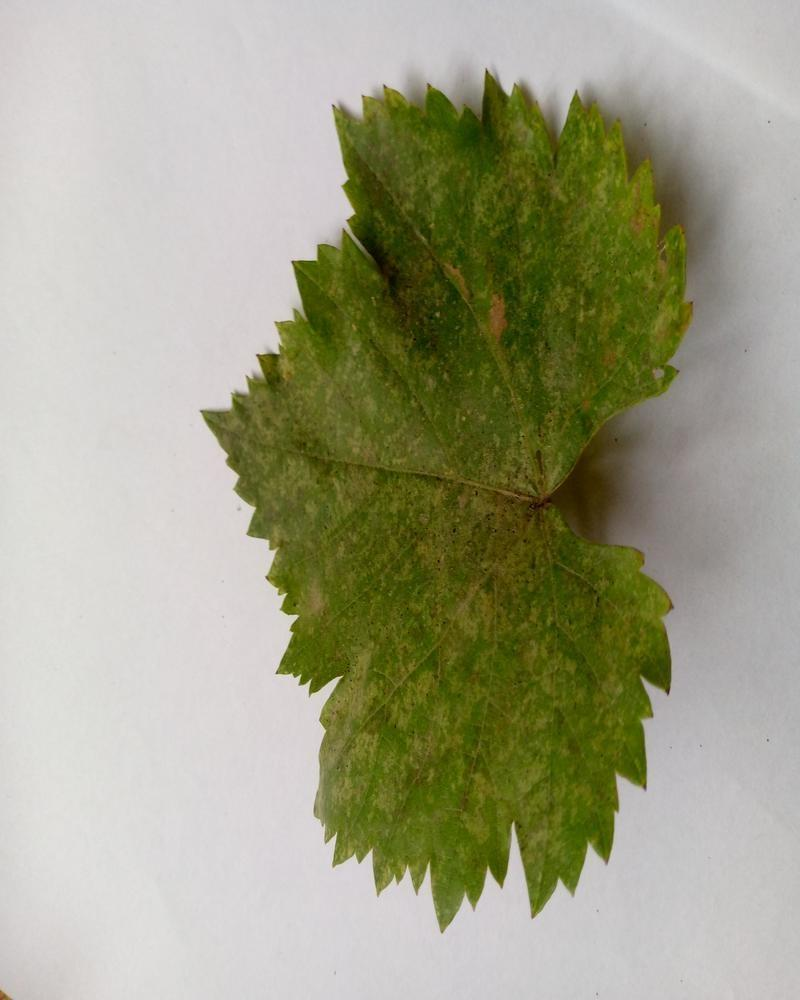Powdery-Mildew: (461, 360, 615, 558), (498, 144, 652, 278), (410, 568, 540, 665), (401, 727, 499, 826), (422, 247, 518, 340), (331, 691, 394, 754)
